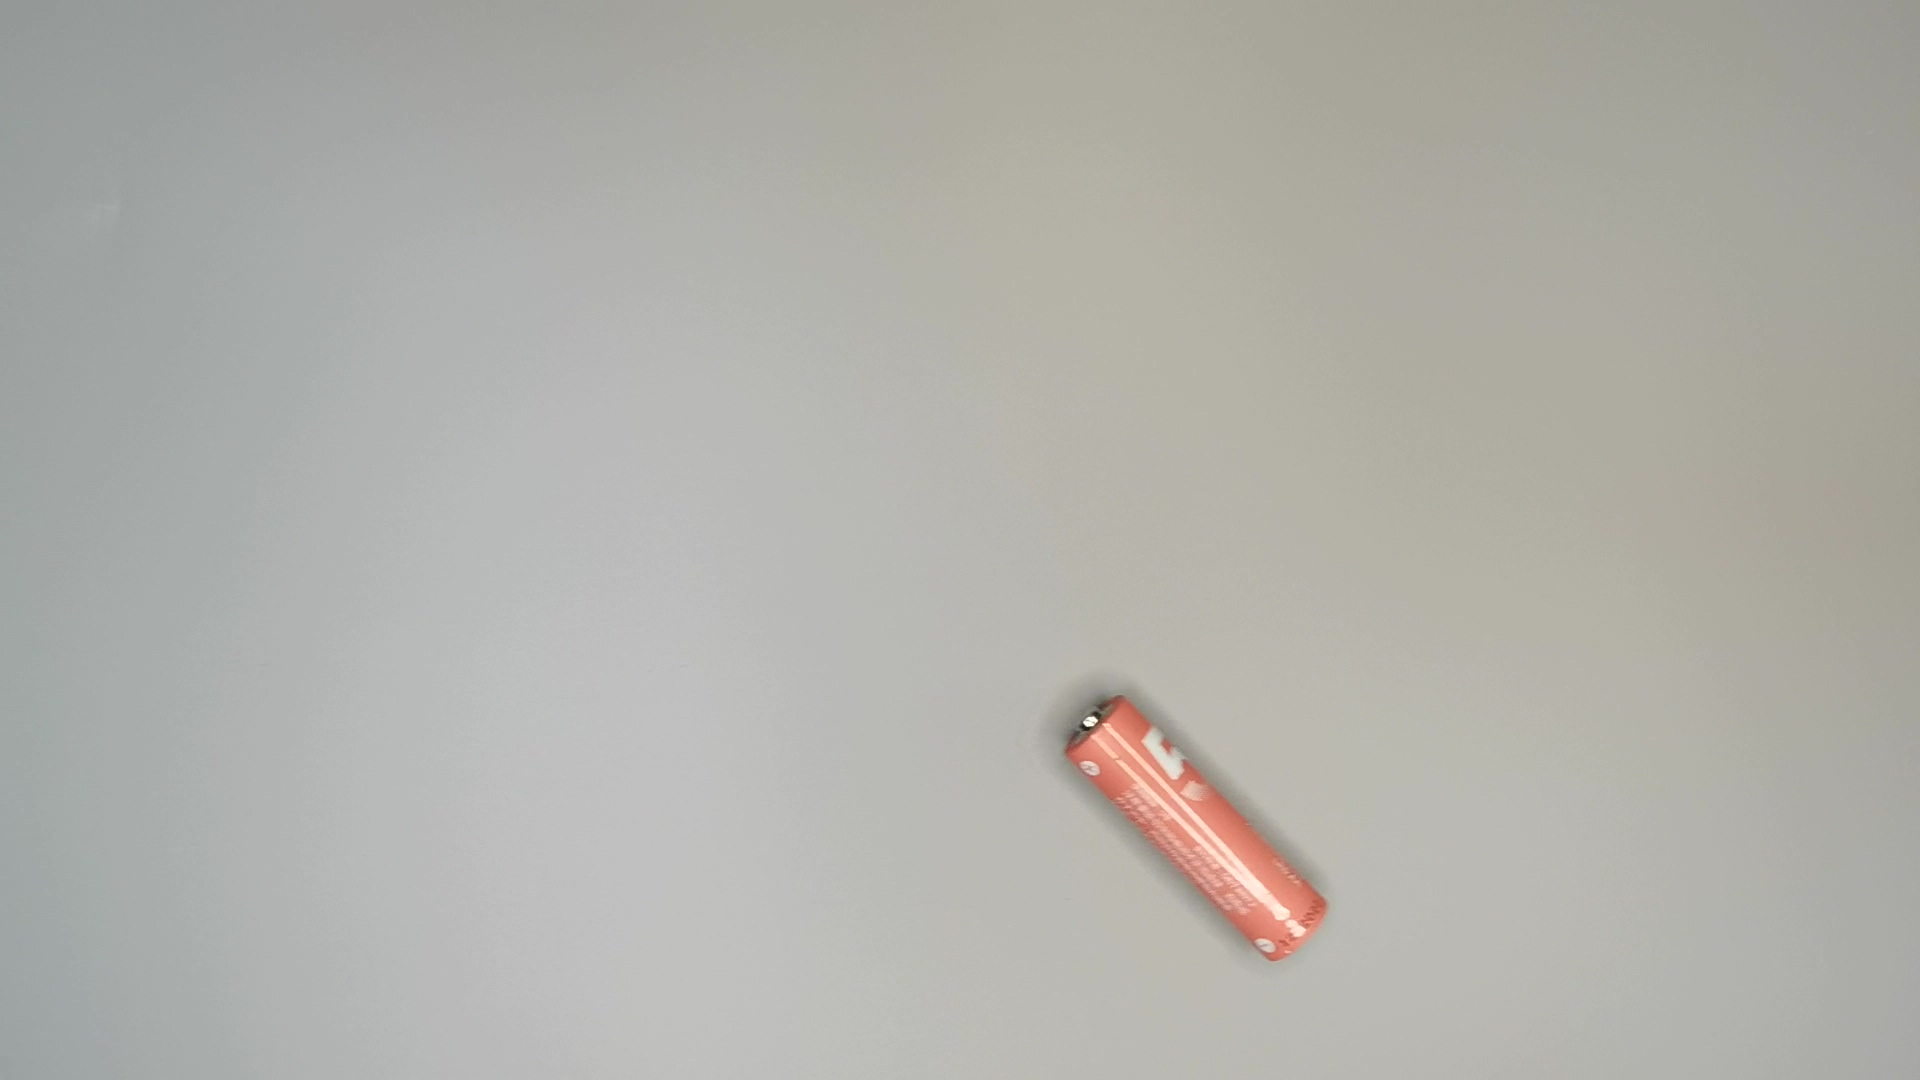battery: (1064, 682, 1335, 968)
